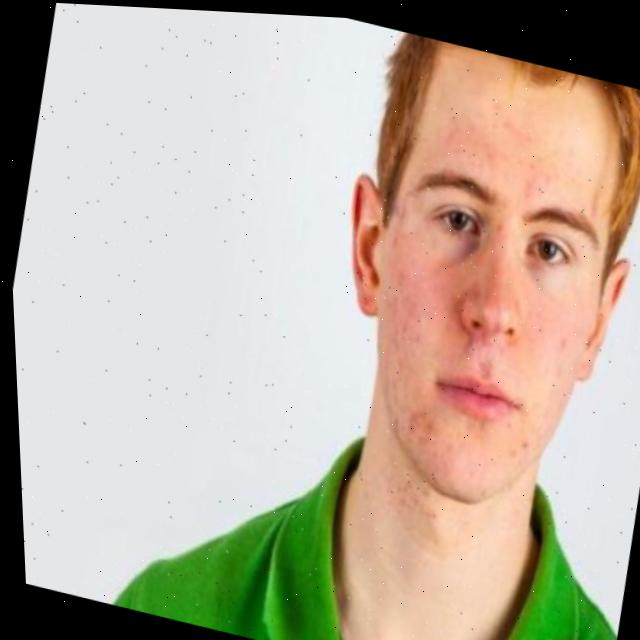Acne: (359, 263, 477, 460), (436, 113, 566, 212)
